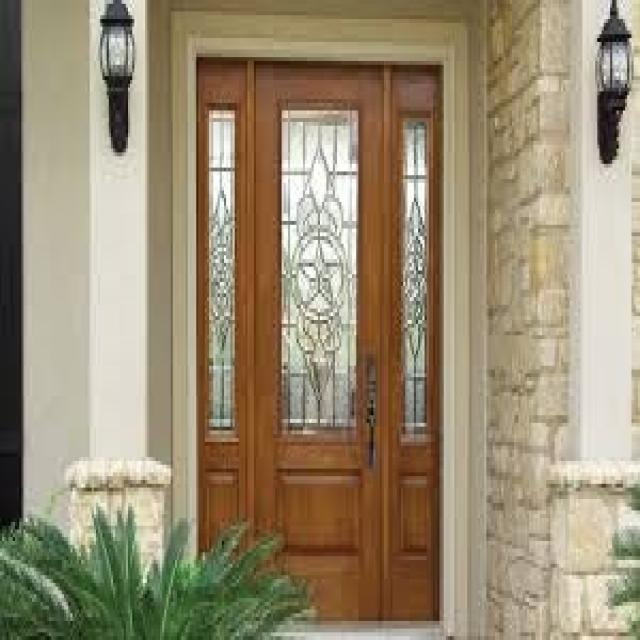door: (195, 55, 443, 623)
